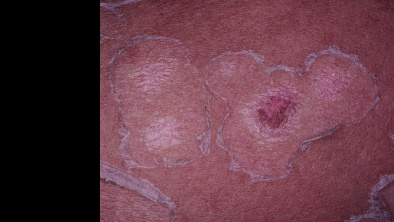SJS-TEN: (101, 0, 393, 222)
